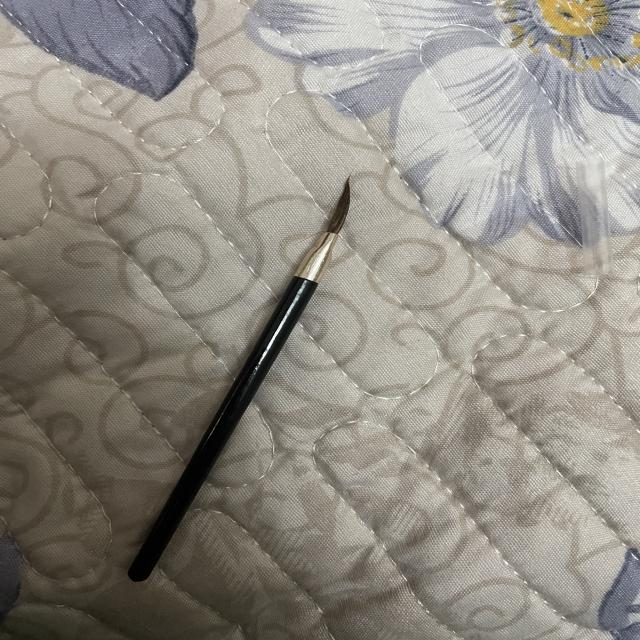brush: (110, 161, 376, 594)
